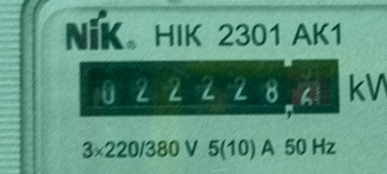0: (97, 77, 114, 106)
2: (130, 74, 149, 104), (164, 74, 181, 103), (230, 74, 247, 103), (196, 74, 214, 101)
5: (296, 61, 312, 81)
6: (296, 84, 312, 105)
8: (262, 76, 277, 104)
screen: (69, 47, 347, 126)
